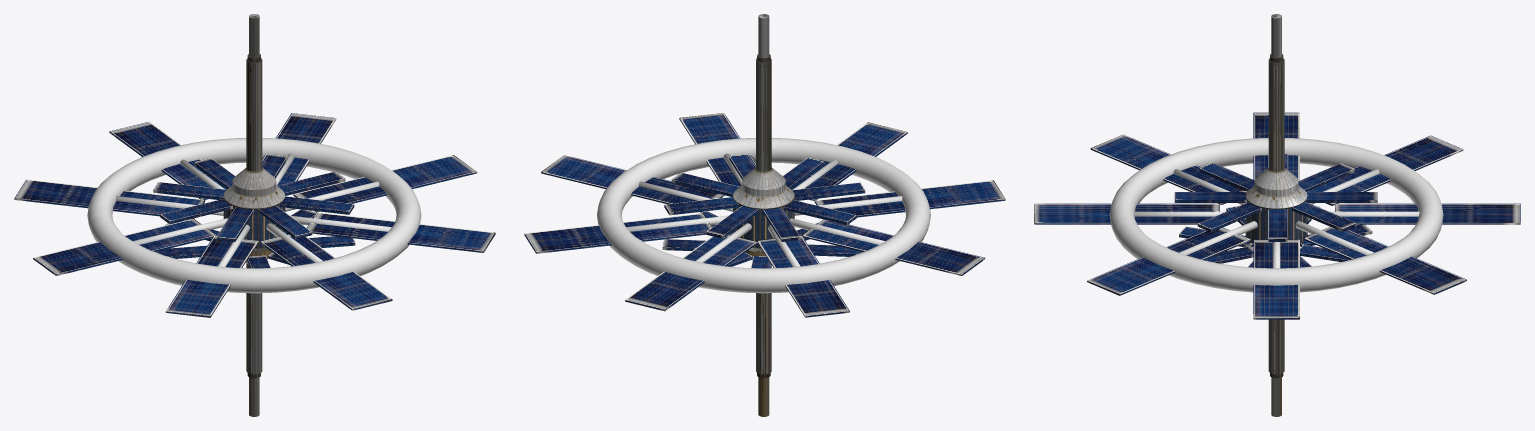
The model's file is sattelite.glb.
The picture shows the model from 3 angles, left to right: view 1: azimuth 30°, elevation 25°; view 2: azimuth 150°, elevation 25°; view 3: azimuth 270°, elevation 25°; orthographic projection.
Parts seen in each view (by area): view 1: Cube.001, Torus, Cylinder, Cube.002, Cube.003; view 2: Cube.001, Torus, Cylinder, Cube.002, Cube.003; view 3: Cube.001, Torus, Cylinder, Cube.002, Cube.003.
Part boxes in pixels (bbox=[...]): Cube.001: bbox=[14, 113, 495, 317]; Torus: bbox=[87, 138, 421, 293]; Cylinder: bbox=[223, 14, 285, 416]; Cube.002: bbox=[153, 154, 354, 241]; Cube.003: bbox=[155, 209, 355, 268]; Cube.001: bbox=[524, 113, 1005, 317]; Torus: bbox=[597, 138, 930, 293]; Cylinder: bbox=[733, 14, 794, 416]; Cube.002: bbox=[664, 154, 865, 241]; Cube.003: bbox=[662, 211, 862, 268]; Cube.001: bbox=[1034, 112, 1520, 319]; Torus: bbox=[1109, 138, 1443, 292]; Cylinder: bbox=[1245, 14, 1307, 416]; Cube.002: bbox=[1174, 153, 1377, 241]; Cube.003: bbox=[1179, 205, 1372, 267].
Size of the model in its own units: 15.72 by 14.22 by 15.72.
Materials: 13 (13 with a texture image).
